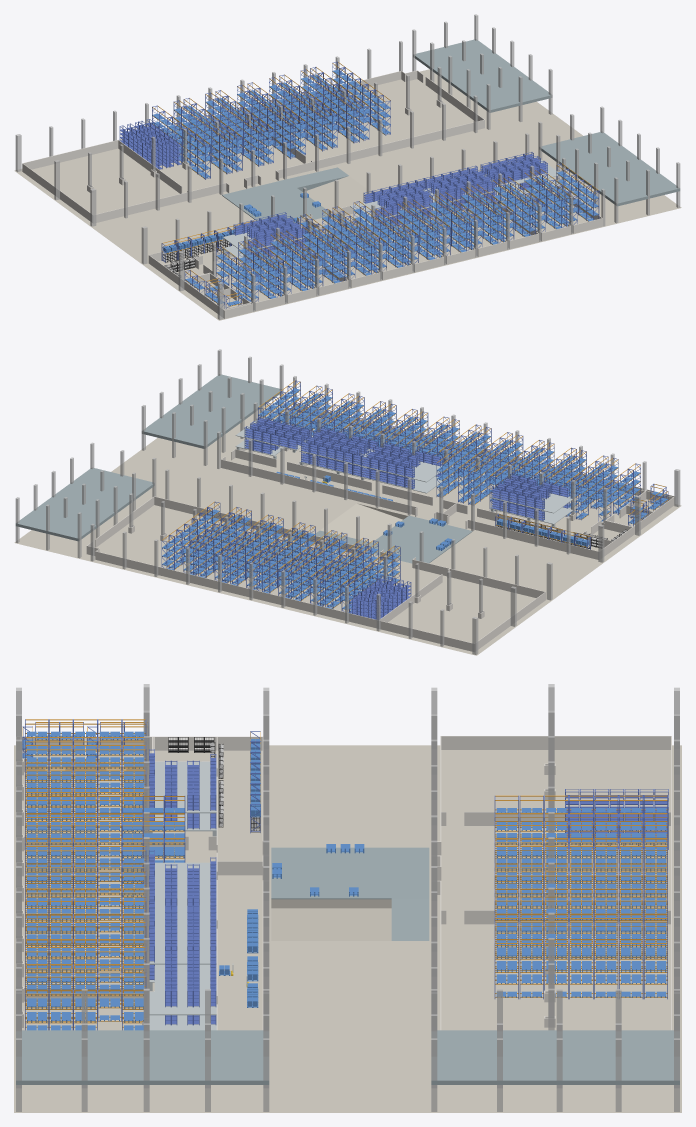
The model's file is headstock_warehouse_level_20230621.glb.
3 renders of one model, top to bottom at view 1: azimuth 30°, elevation 25°; view 2: azimuth 150°, elevation 25°; view 3: azimuth 270°, elevation 25°, orthographic. The views are drawn at different scales.
Parts seen in each view (by area): view 1: Rectangle546, Rectangle197, Line004, Object005, Shape001, Rectangle535, Line060, Line057, Rectangle40745, Line056, Rectangle34458, Rectangle33576 (+64 smaller); view 2: Rectangle546, Rectangle197, Line004, Object005, Shape001, Line056, Line060, Rectangle535, Rectangle37834, Rectangle40745, Line057, Shape002 (+46 smaller); view 3: Rectangle546, Rectangle197, Line004, Object005, Rectangle535, Rectangle40745, Line057, Rectangle42604, Shape001, Line056, Rectangle42607, Line059 (+72 smaller).
Part boxes in pixels (box(x1,y1,x2,y2)): Rectangle546: box(14, 69, 681, 320); Rectangle197: box(15, 14, 680, 319); Line004: box(539, 132, 680, 206); Object005: box(413, 39, 552, 112); Shape001: box(148, 190, 602, 318); Rectangle535: box(222, 167, 348, 223); Line060: box(244, 70, 484, 169); Line057: box(22, 140, 188, 223); Rectangle40745: box(223, 159, 560, 262); Line056: box(163, 187, 537, 309); Rectangle34458: box(174, 108, 231, 173); Rectangle33576: box(205, 100, 263, 165); Rectangle546: box(14, 404, 681, 655); Rectangle197: box(15, 349, 680, 654); Line004: box(142, 374, 281, 448); Object005: box(15, 468, 154, 541); Shape001: box(221, 404, 674, 559); Line056: box(235, 421, 672, 547); Line060: box(86, 496, 325, 598); Rectangle535: box(314, 515, 472, 563); Rectangle37834: box(301, 440, 414, 489); Rectangle40745: box(235, 420, 572, 524); Line057: box(379, 568, 545, 651); Shape002: box(254, 538, 449, 628); Rectangle546: box(14, 745, 681, 1112); Rectangle197: box(16, 684, 679, 1111); Line004: box(16, 1030, 269, 1084); Object005: box(431, 1030, 679, 1084); Rectangle535: box(271, 847, 429, 940); Rectangle40745: box(149, 761, 216, 1030); Line057: box(440, 736, 671, 811); Rectangle42604: box(496, 951, 666, 997); Shape001: box(16, 736, 263, 1029); Line056: box(20, 737, 262, 1030); Rectangle42607: box(496, 934, 666, 978); Line059: box(441, 812, 670, 924).
Size of the model in its own units: 8.74 by 0.8998 by 6.71.
